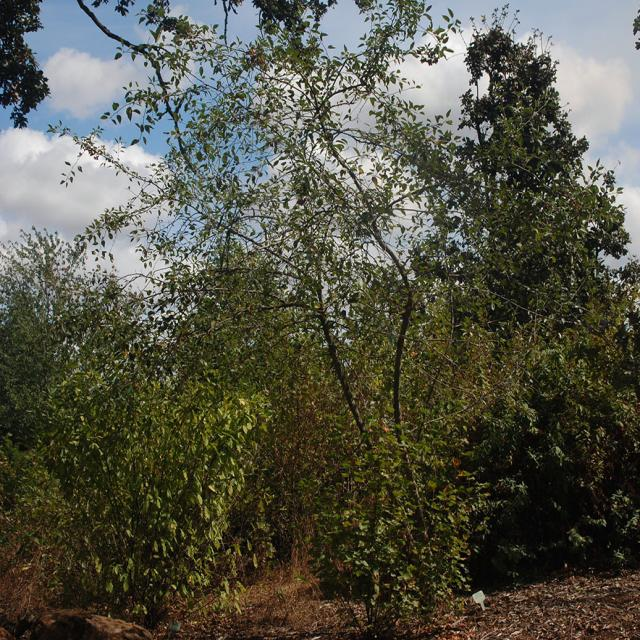Malus fusca: (113, 0, 520, 626), (44, 315, 276, 632)
